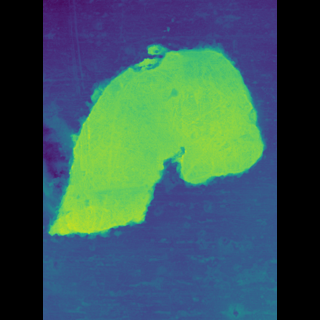Loch: (74, 37, 240, 247)
